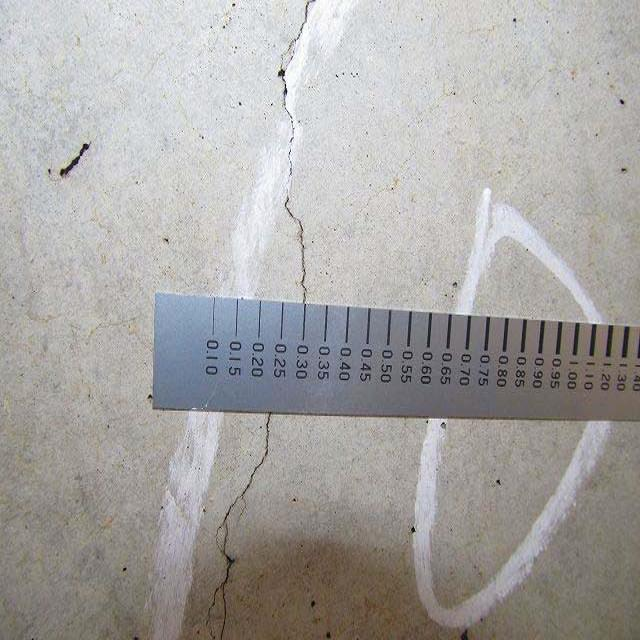crack: (260, 6, 323, 320), (194, 420, 273, 640)
